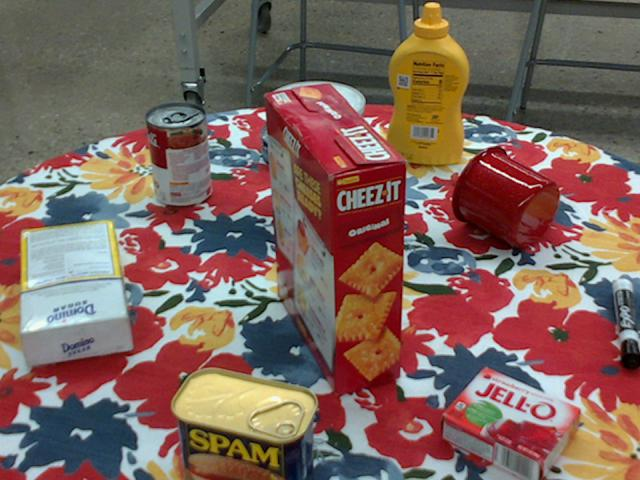cracker_box: (263, 86, 403, 397)
gelatin_box: (440, 367, 581, 479)
large_marker: (613, 276, 639, 365)
master_chef_can: (267, 80, 364, 237)
mug: (451, 145, 559, 247)
mustard_bottle: (386, 4, 468, 164)
potted_meat_can: (167, 369, 315, 479)
sugar_box: (21, 222, 131, 364)
tomato_soup_can: (145, 102, 210, 207)
tuna_fish_can: (262, 118, 330, 170)
